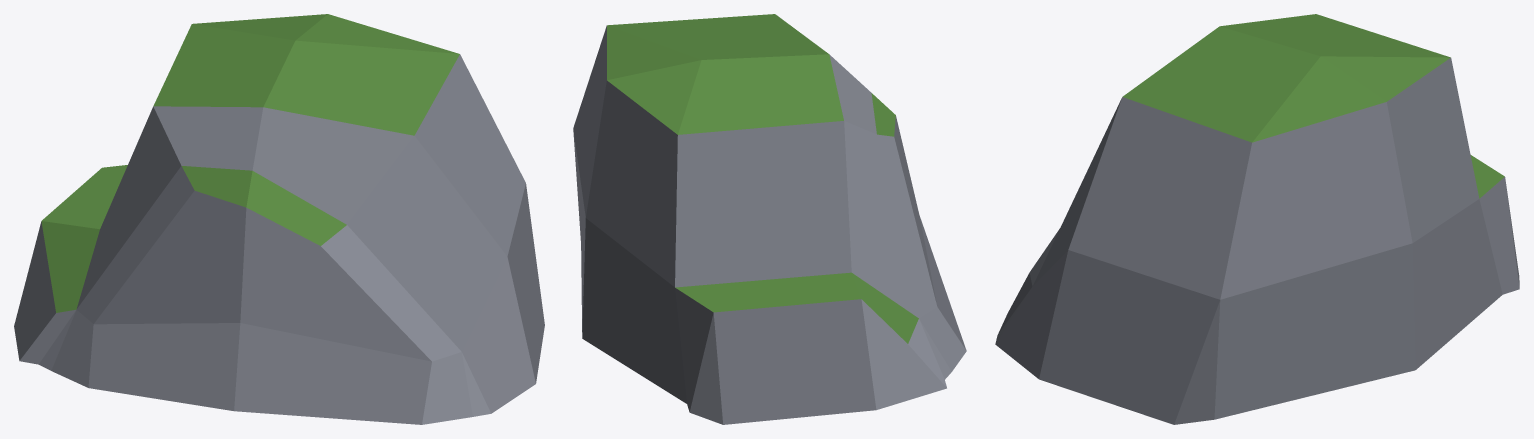
Rendered from Rock_Moss_5.glb.
3 renders of one model, left to right at view 1: azimuth 30°, elevation 25°; view 2: azimuth 150°, elevation 25°; view 3: azimuth 270°, elevation 25°, orthographic. The views are drawn at different scales.
Parts seen in each view (by area): view 1: Rock_Moss_5; view 2: Rock_Moss_5; view 3: Rock_Moss_5.
Part boxes in pixels (x1,y1,x2,y2): Rock_Moss_5: (14,14,544,424); Rock_Moss_5: (573,14,966,424); Rock_Moss_5: (995,14,1519,424).
Bounding box in the file's own units: 1.04 × 0.678 × 1.04.
